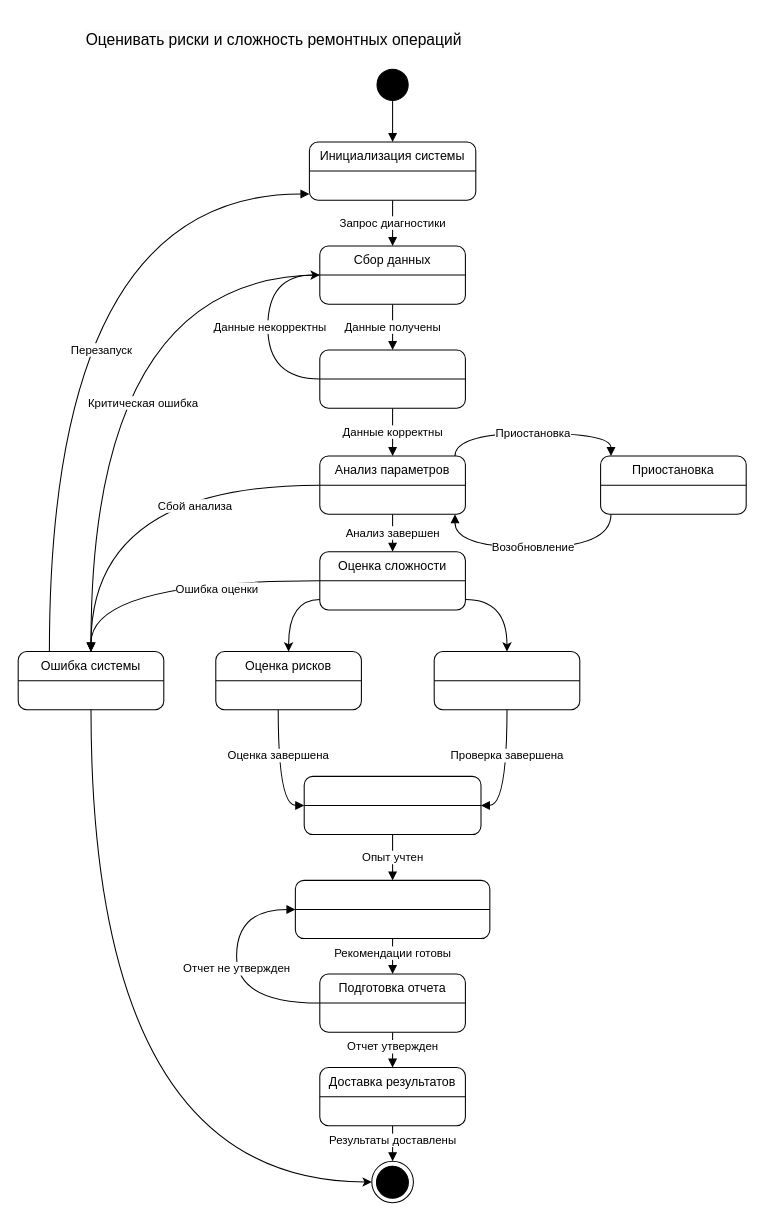
This 765x1221 diagram has some shape labels left out. Here are the shapes that lost their labels. From the top down, the box of each, then its label:
(319, 349, 465, 408): Валидация данных
(433, 651, 580, 710): Проверка безопасности
(303, 775, 481, 835): Учет опыта пользователя
(294, 879, 490, 939): Формирование рекомендаций
